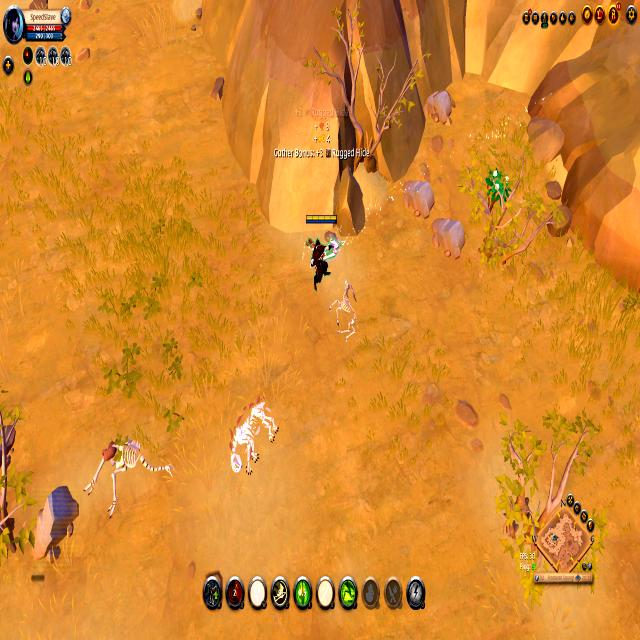hide: (486, 164, 510, 208)
red: (303, 211, 339, 290)
